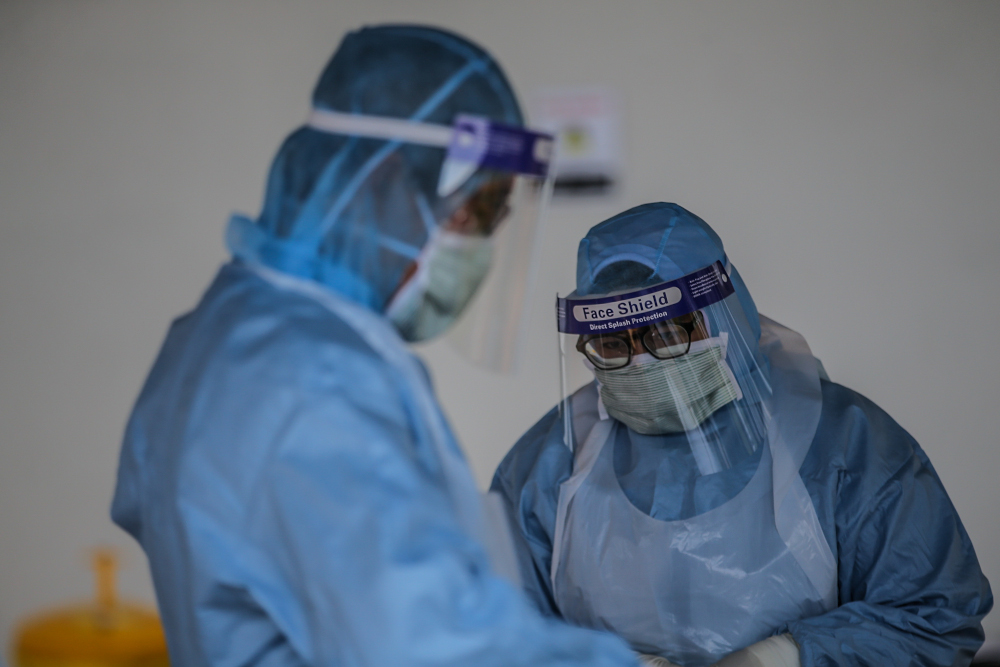Coverall: (113, 26, 548, 667), (488, 202, 991, 667)
with_mask: (586, 308, 734, 435)
